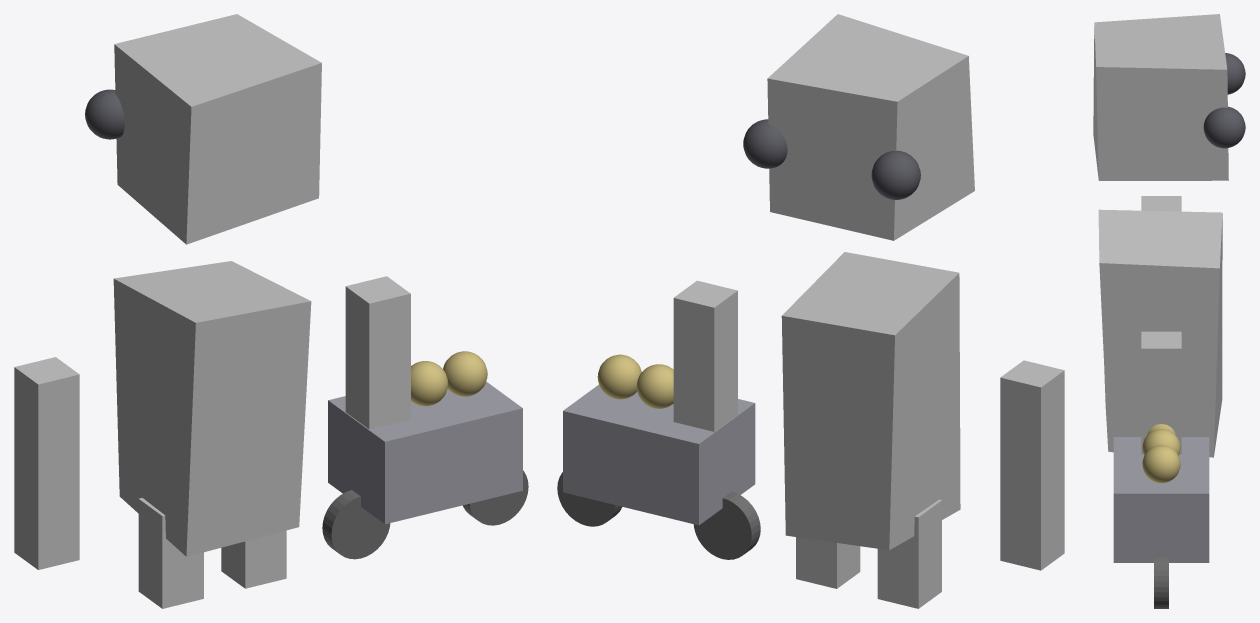
Rendered from clay_miner_cart.glb.
The picture shows the model from 3 angles, left to right: view 1: azimuth 30°, elevation 25°; view 2: azimuth 150°, elevation 25°; view 3: azimuth 270°, elevation 25°; orthographic projection. The views are drawn at different scales.
Visible parts, largest first — view 1: ore.002; view 2: ore.002; view 3: ore.002.
Part boxes in pixels (bbox=[...]): ore.002: bbox=[14, 14, 528, 608]; ore.002: bbox=[557, 14, 1064, 608]; ore.002: bbox=[1093, 14, 1245, 608].
Bounding box in the file's own units: 2.53 × 2.61 × 0.7963.
